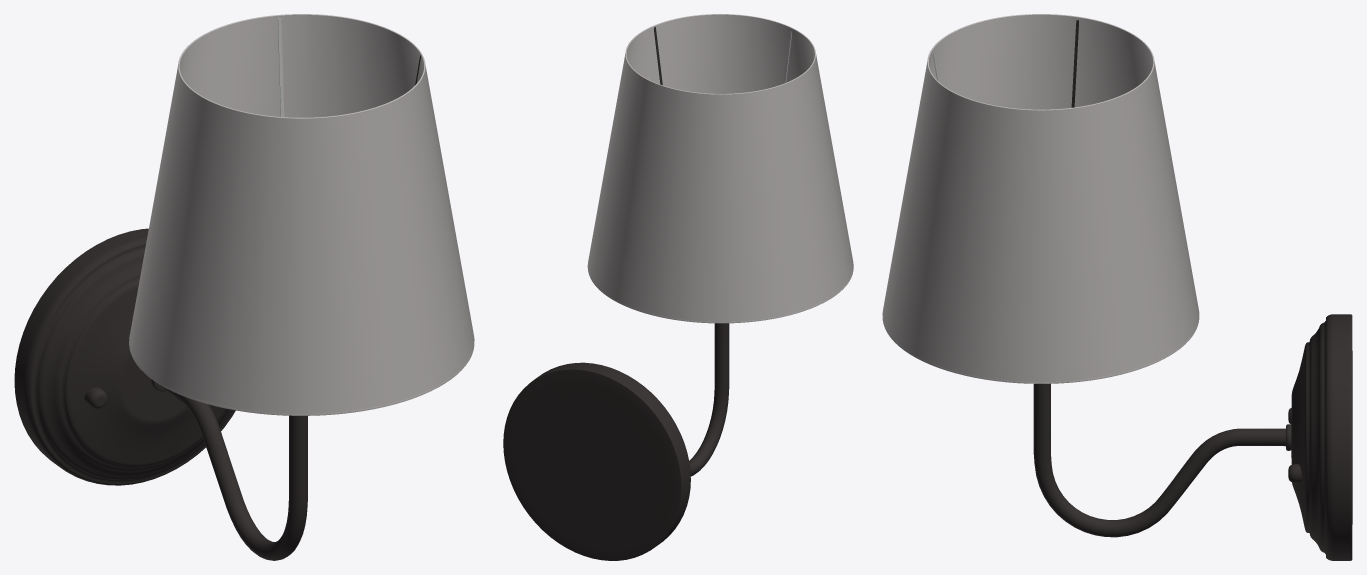
Rendered from abo-B07MHMSDJF.glb.
The picture shows the model from 3 angles, left to right: view 1: azimuth 30°, elevation 25°; view 2: azimuth 150°, elevation 25°; view 3: azimuth 270°, elevation 25°; orthographic projection. The views are drawn at different scales.
Size of the model in its own units: 0.184 by 0.312 by 0.272.
Materials: 1 (1 with a texture image).
